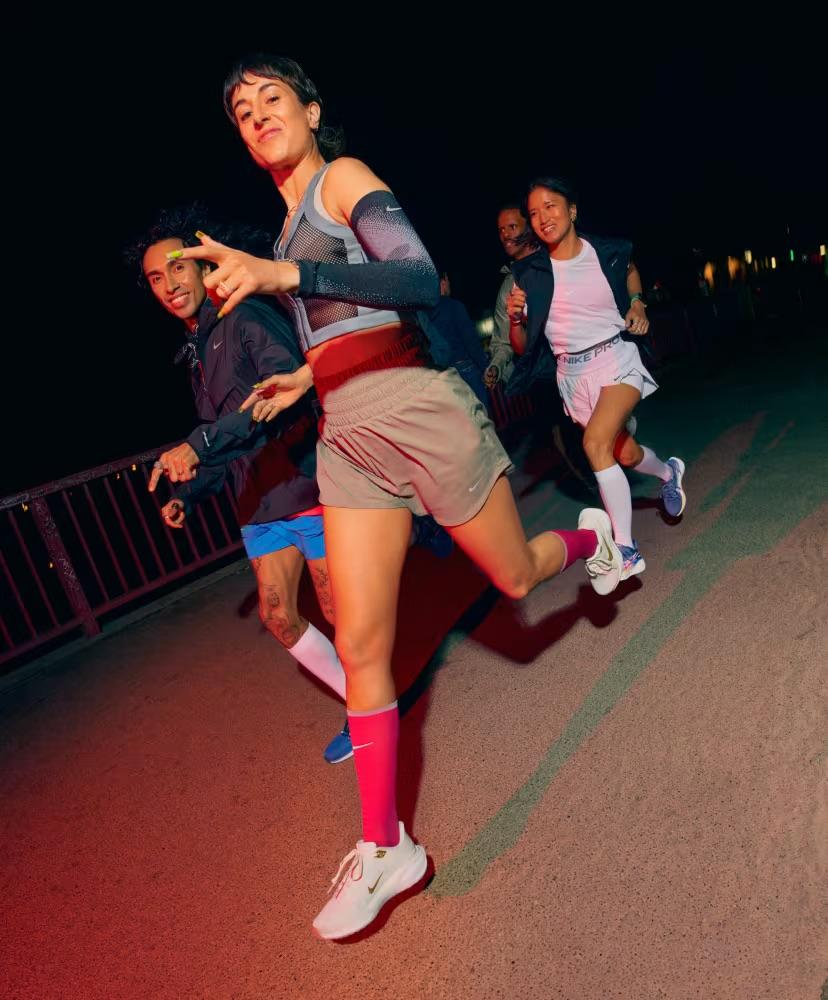nike logo: (359, 866, 393, 901), (600, 534, 619, 566)
